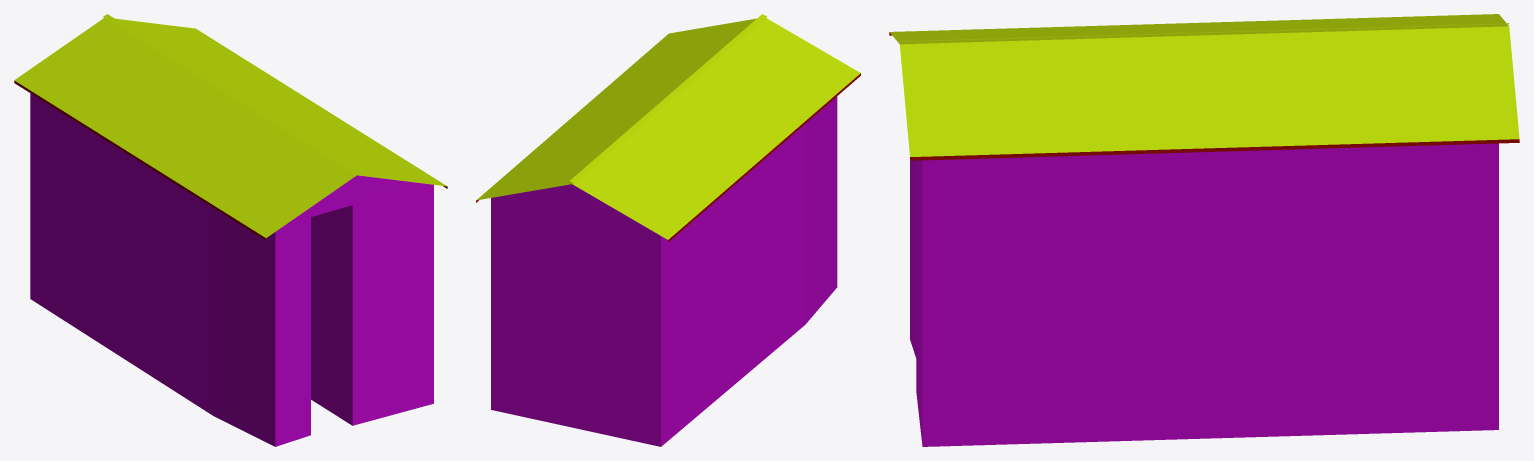
The model's file is rmc_79.glb.
3 renders of one model, left to right at view 1: azimuth 30°, elevation 25°; view 2: azimuth 150°, elevation 25°; view 3: azimuth 270°, elevation 25°, orthographic. The views are drawn at different scales.
Visible parts, largest first — view 1: rmc_79; view 2: rmc_79; view 3: rmc_79.
Part boxes in pixels (left/top/right/bottom): rmc_79: left=14, top=14, right=447, bottom=446; rmc_79: left=476, top=14, right=860, bottom=446; rmc_79: left=889, top=14, right=1519, bottom=446.
Size of the model in its own units: 10.08 by 11.48 by 18.75.
